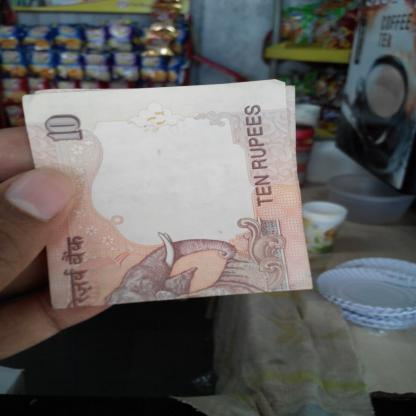Old10Back: (22, 79, 314, 311)
